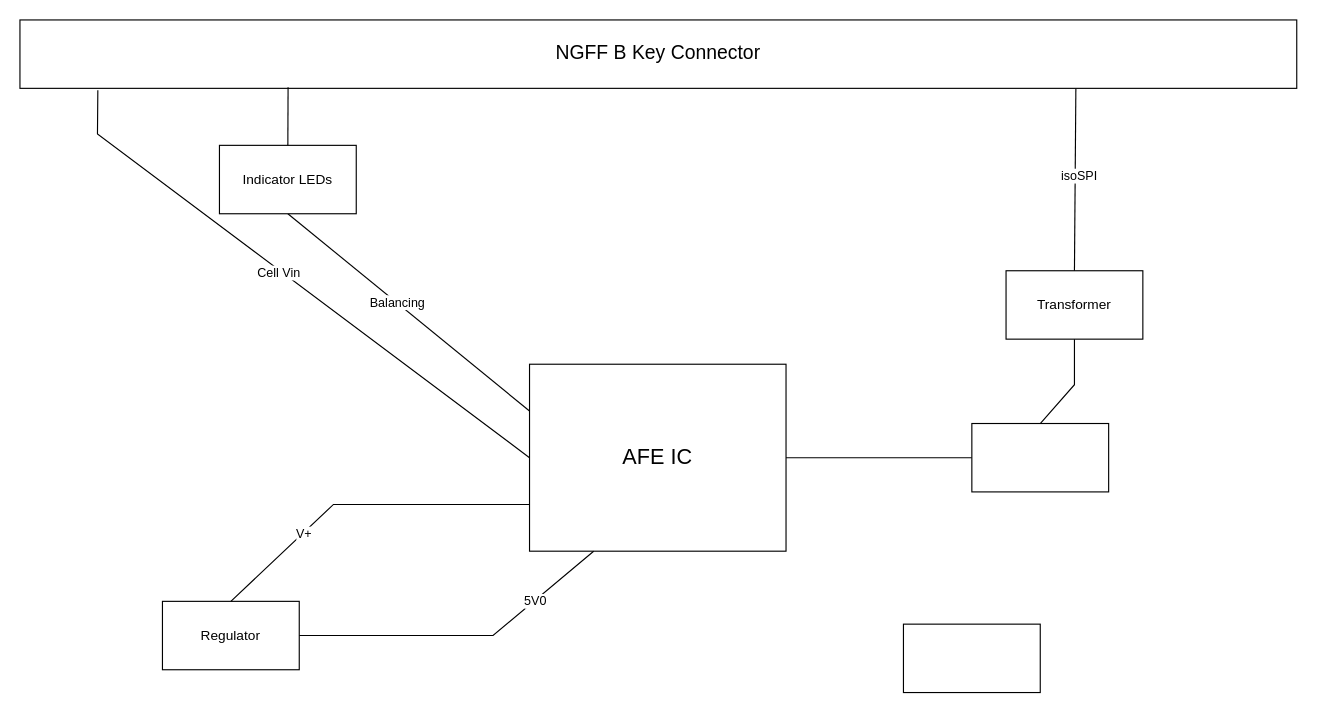
Some shapes in this 1317 by 713 pixel diagram are drawn without their labels. The shapes that lost their labels are listed below. From the top down, each one's centre as x and y in pixels, then its label:
At (x=1040, y=457): "100 ohm termination".
At (x=971, y=658): "Thermistor handling".
